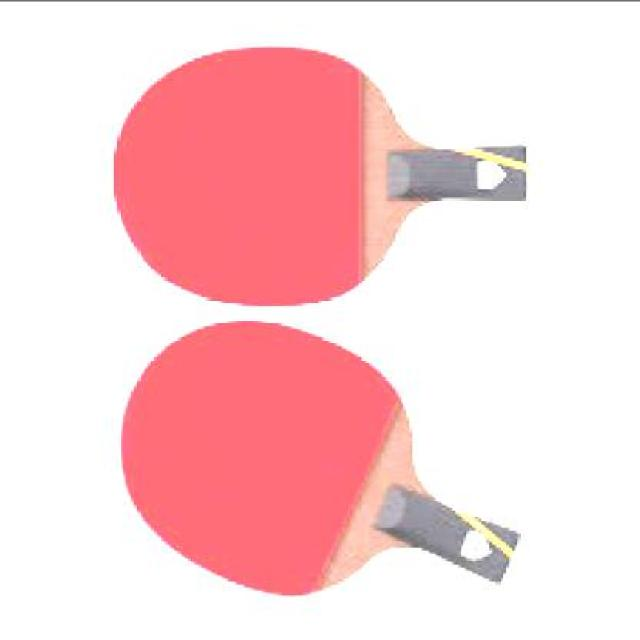table_tennis_racket: (120, 320, 520, 597), (114, 48, 535, 311)
